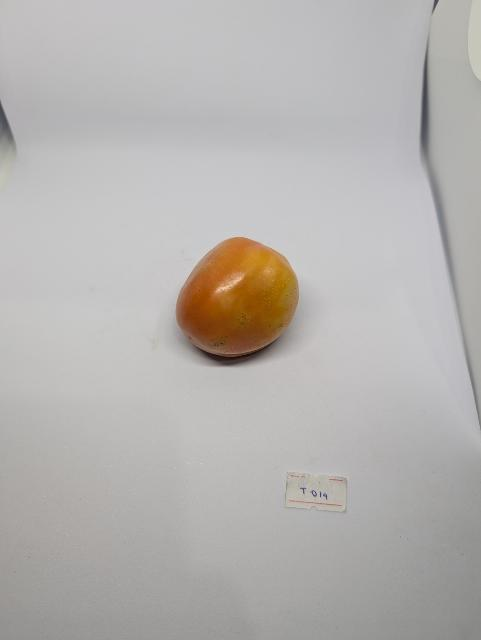turning: (173, 231, 311, 369)
